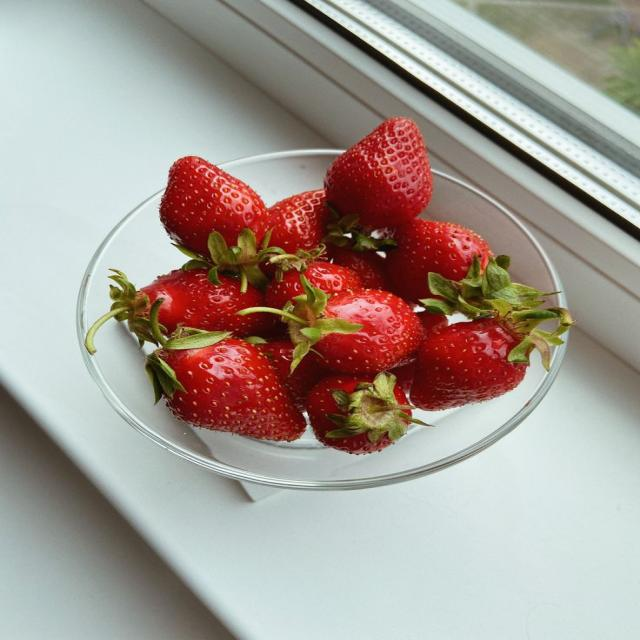strawberry: (411, 256, 573, 410), (239, 276, 422, 373), (147, 332, 306, 441), (86, 269, 274, 352), (325, 117, 432, 228), (160, 156, 273, 255), (411, 318, 526, 410), (307, 373, 424, 454), (140, 269, 273, 336), (387, 219, 491, 301), (254, 339, 327, 410), (268, 190, 332, 253), (328, 246, 392, 290), (304, 261, 362, 294), (416, 310, 448, 339), (416, 310, 448, 336)
